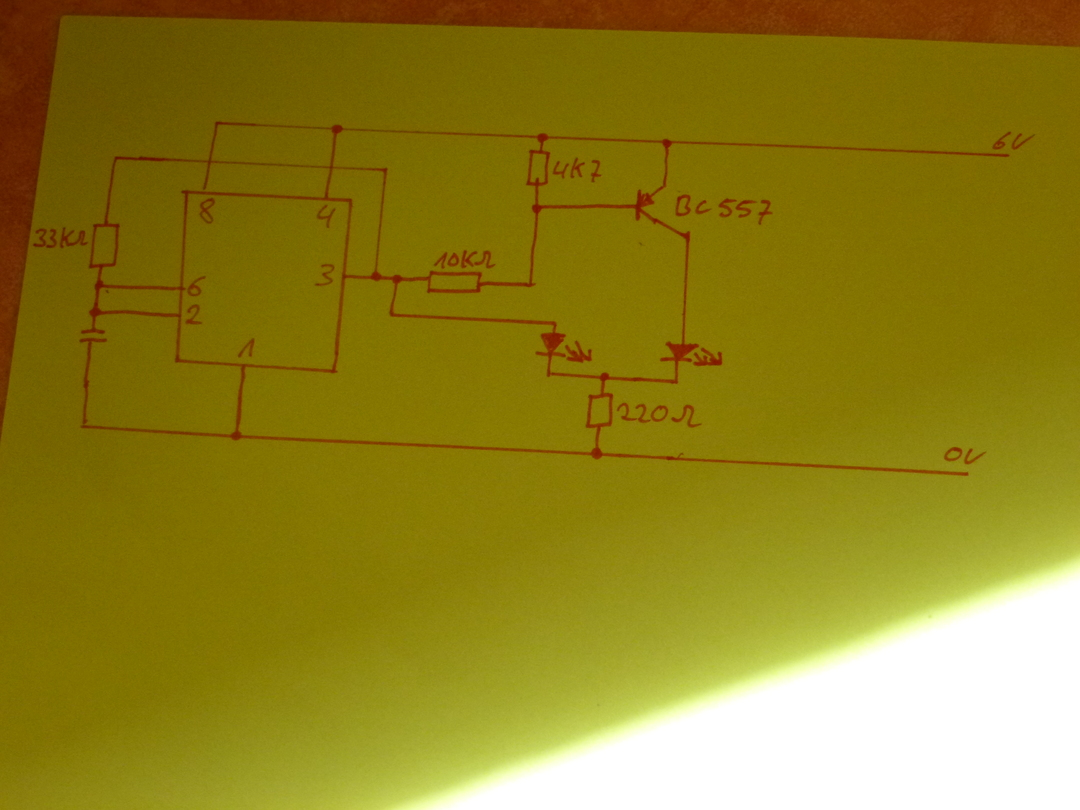capacitor.unpolarized: (79, 325, 109, 347)
crossover: (204, 155, 217, 167), (325, 162, 337, 174)
diode.light_emitting: (535, 331, 594, 364), (658, 340, 724, 368)
integrated_cricuit.ne555: (174, 189, 353, 374)
junction: (588, 446, 606, 462), (368, 269, 385, 284), (229, 428, 243, 444), (535, 130, 551, 144), (329, 122, 345, 136), (88, 304, 102, 319), (660, 137, 675, 151), (389, 272, 405, 285), (598, 370, 612, 384), (93, 278, 106, 292), (386, 307, 399, 321), (531, 202, 544, 215), (380, 164, 395, 175), (211, 118, 224, 130), (79, 419, 90, 431), (671, 375, 682, 386), (549, 318, 560, 329), (526, 279, 538, 289), (110, 153, 121, 163), (544, 369, 554, 379)
resistor: (88, 222, 122, 270), (425, 270, 484, 296), (585, 391, 613, 431), (525, 148, 550, 187)
terminal: (959, 469, 975, 480), (1002, 150, 1017, 161)
text: (673, 193, 776, 227), (616, 401, 704, 430), (433, 248, 498, 271), (31, 226, 88, 250), (552, 157, 603, 183), (942, 445, 988, 466), (991, 130, 1036, 151), (197, 197, 218, 225), (313, 262, 336, 287), (186, 275, 209, 298), (317, 203, 336, 230), (236, 337, 258, 360), (183, 303, 204, 327)
transistor: (633, 183, 693, 241)
